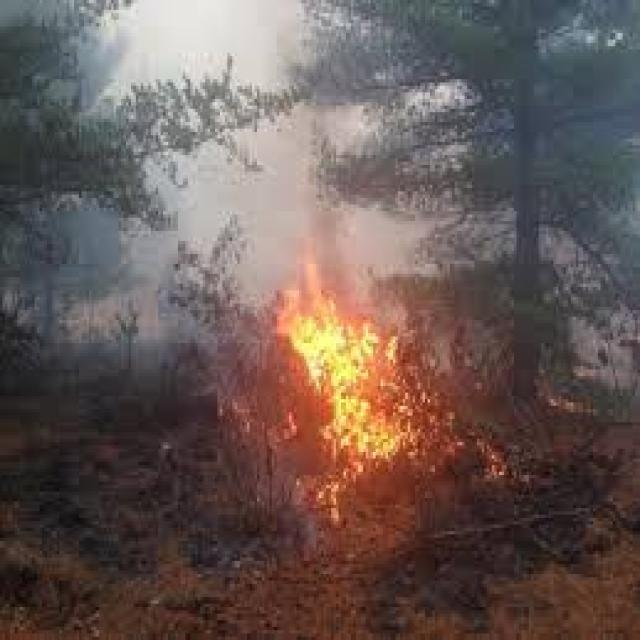Fire: (242, 228, 483, 513)
Smoke: (63, 223, 158, 329), (140, 4, 280, 68), (257, 169, 322, 268)
